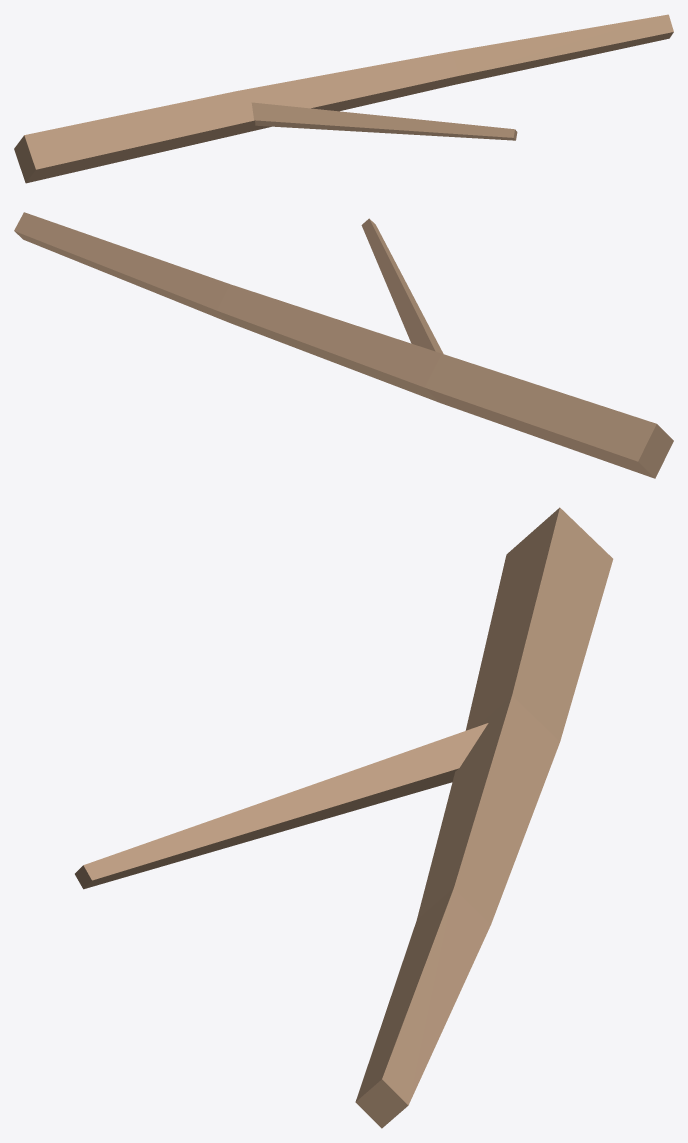
The model's file is galho_0.fbx.
The picture shows the model from 3 angles, top to bottom: view 1: azimuth 30°, elevation 25°; view 2: azimuth 150°, elevation 25°; view 3: azimuth 270°, elevation 25°; orthographic projection. The views are drawn at different scales.
Visible parts, largest first — view 1: galho_0~Galho@bark, galho_0~Graveto 0@bark; view 2: galho_0~Galho@bark, galho_0~Graveto 0@bark; view 3: galho_0~Galho@bark, galho_0~Graveto 0@bark.
Boxes of the visible parts, x1,y1,x2,y2 form: galho_0~Galho@bark: (14,14,673,183); galho_0~Graveto 0@bark: (251,102,517,140); galho_0~Galho@bark: (14,212,673,478); galho_0~Graveto 0@bark: (361,218,443,353); galho_0~Galho@bark: (355,507,613,1128); galho_0~Graveto 0@bark: (75,723,488,889).
Size of the model in its own units: 1.3 by 0.114 by 0.5013.
